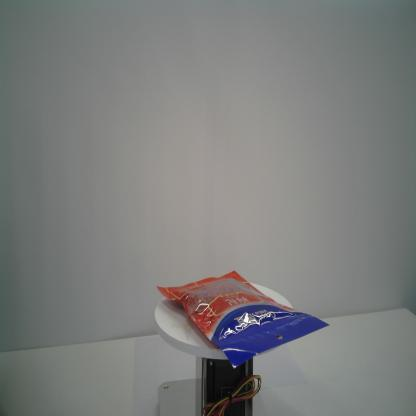Dried Fruit: (157, 270, 330, 370)
